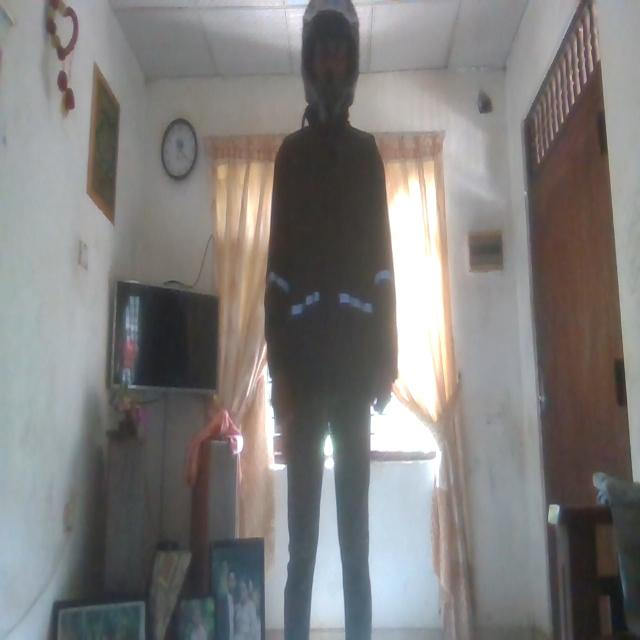Helmet_Wearer: (295, 0, 360, 124)
Jacket_Wearer: (266, 120, 404, 420)
Person: (263, 14, 393, 636)
